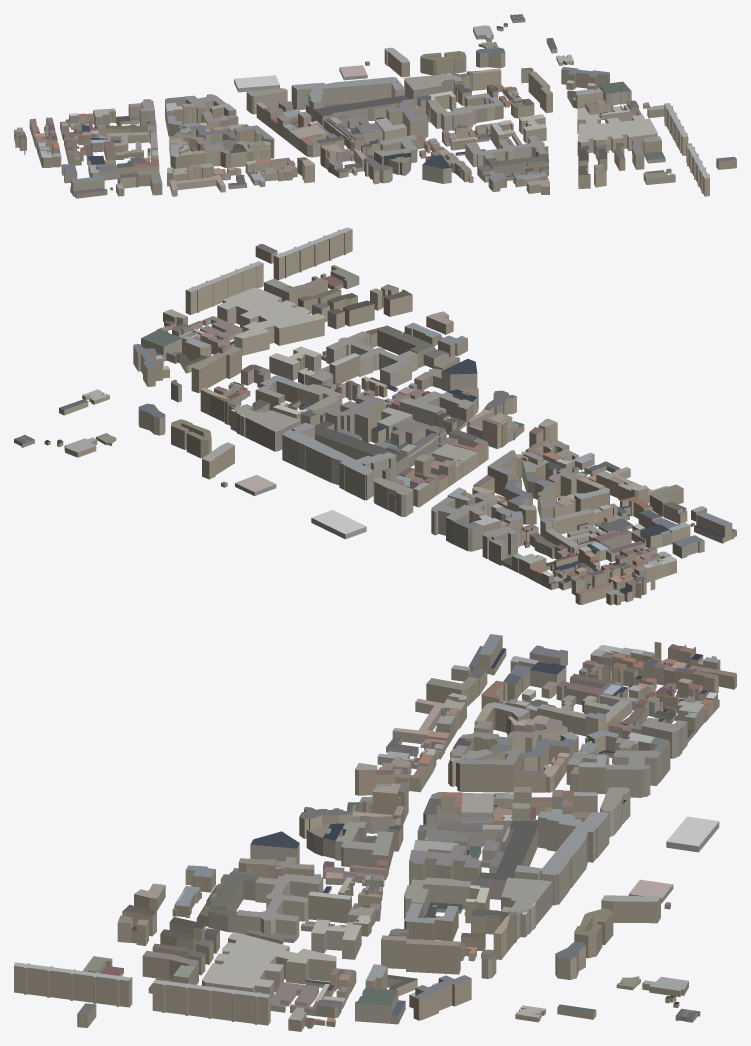
The picture shows the model from 3 angles, top to bottom: view 1: azimuth 30°, elevation 25°; view 2: azimuth 150°, elevation 25°; view 3: azimuth 270°, elevation 25°; orthographic projection. The views are drawn at different scales.
Visible parts, largest first — view 1: tuile; view 2: tuile; view 3: tuile.
Part boxes in pixels (box(x1,y1,x2,y2)): tuile: box(14, 14, 736, 198); tuile: box(14, 227, 736, 605); tuile: box(14, 634, 736, 1031).
Size of the model in its own units: 1028 by 47.67 by 823.
